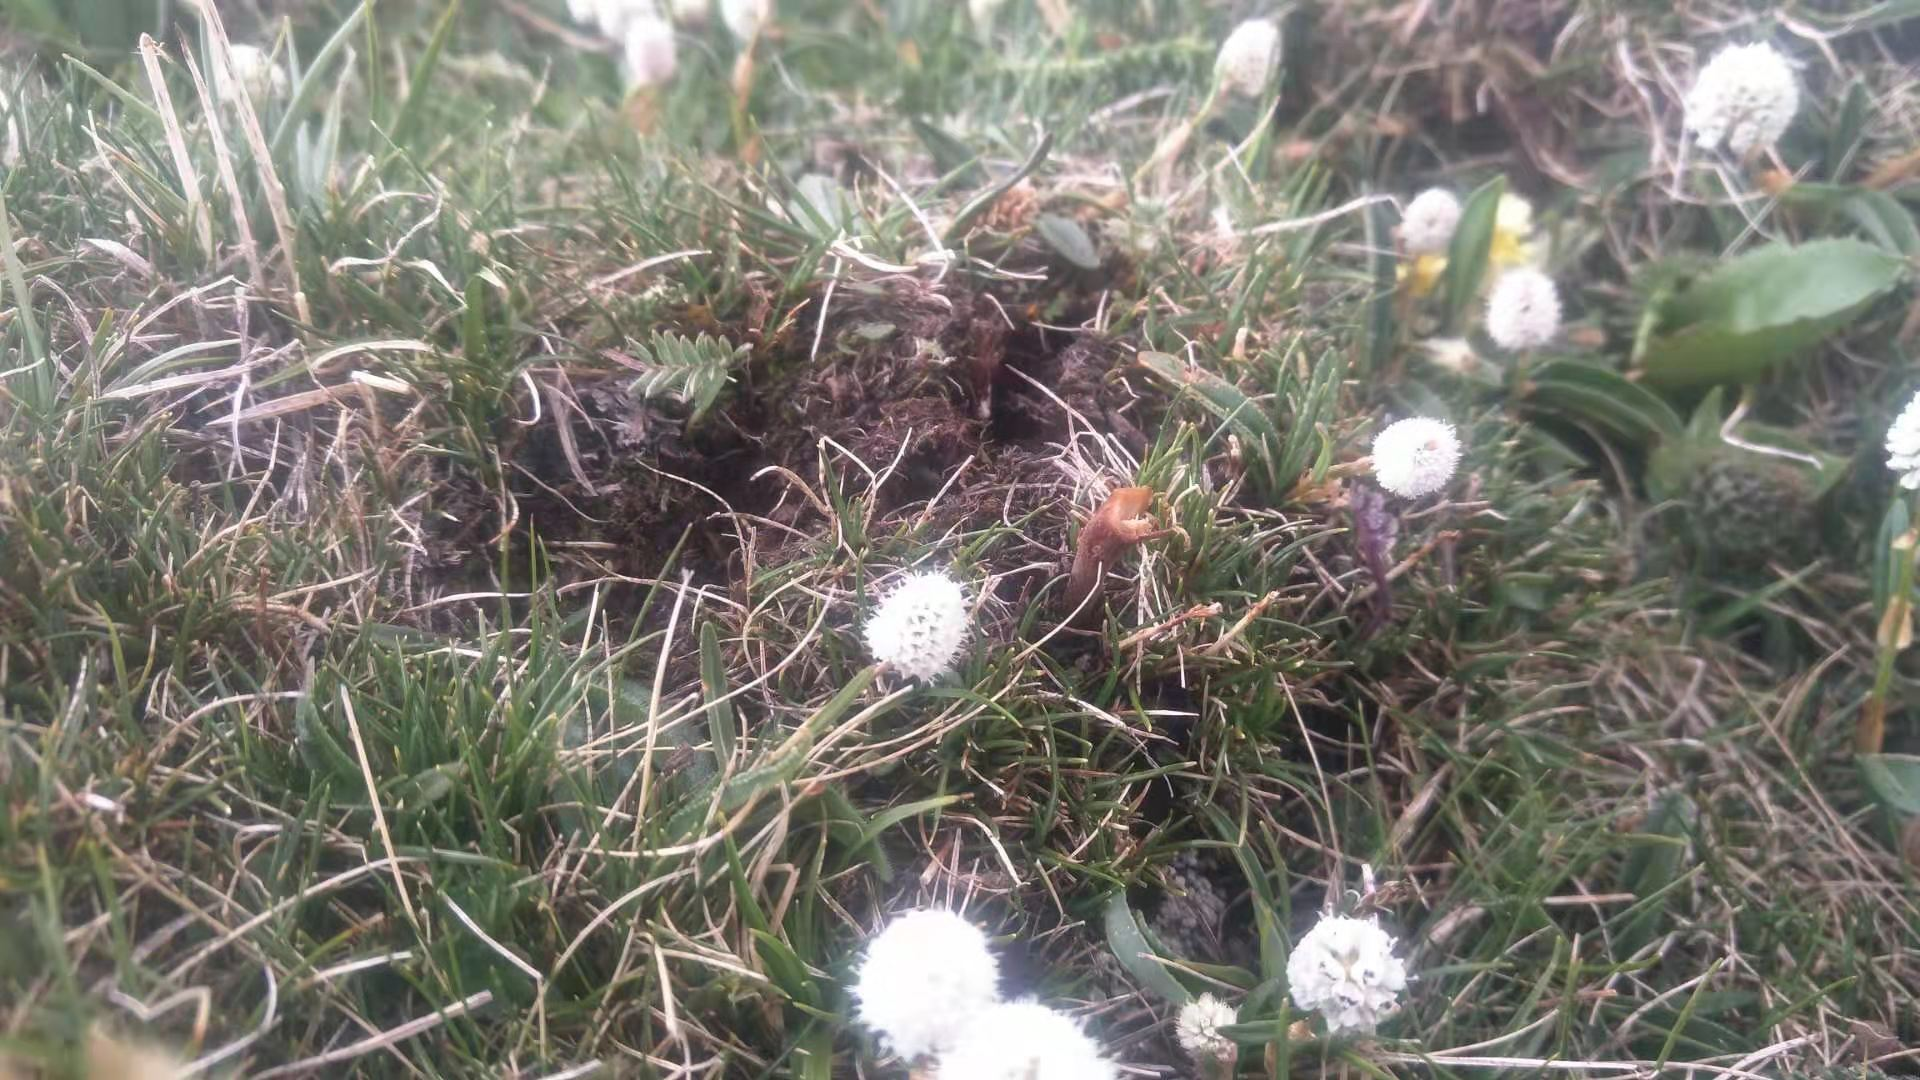cpf: (1062, 481, 1156, 630)
